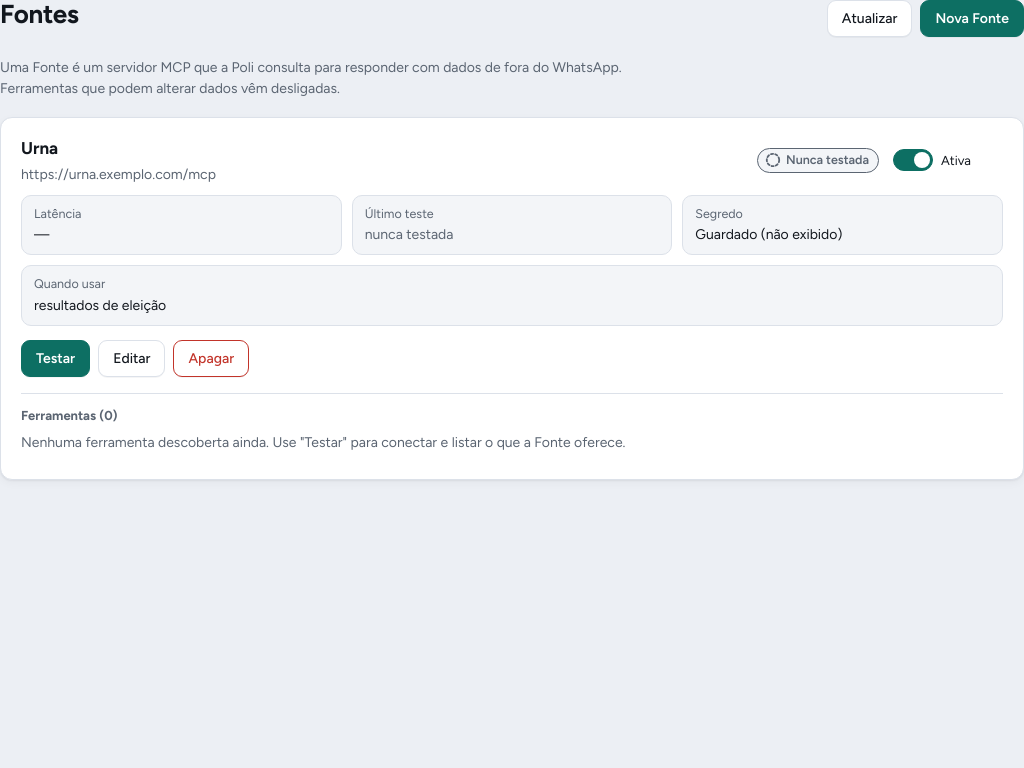
Test: tela de Fontes › ao editar, o segredo vem vazio e "Remover segredo" envia segredo vazio
The image size is (1024, 768).
Click the button "Editar". click: (132, 358)
box: [98,340,166,377]
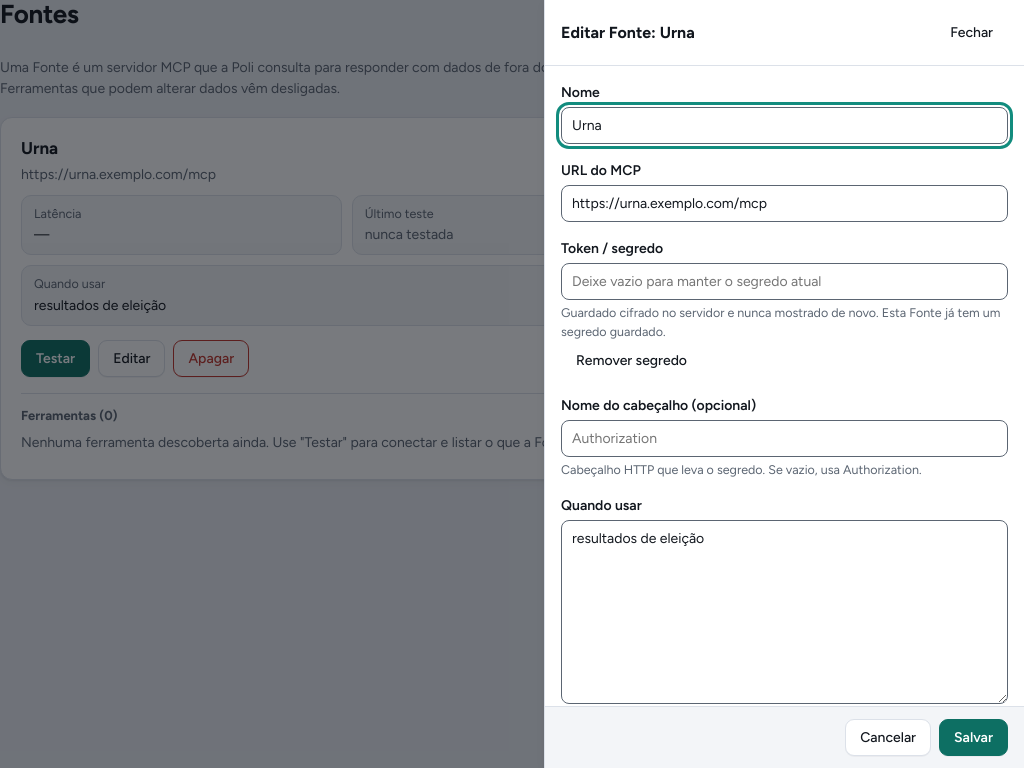
Check: the password field labelled "Token / segredo" is empty, box [561,263,1008,300]
Click the button "Remover segredo". click: (632, 360)
box: [561,342,702,378]
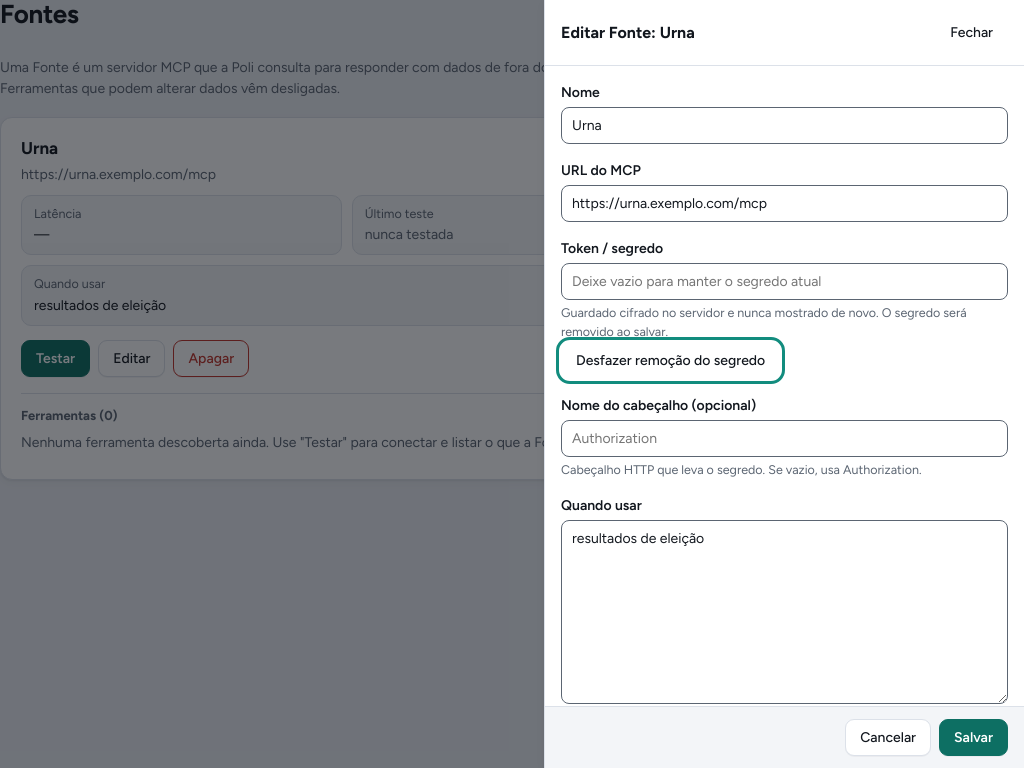
Click the button "Salvar". click: (974, 738)
box: [939,719,1008,756]
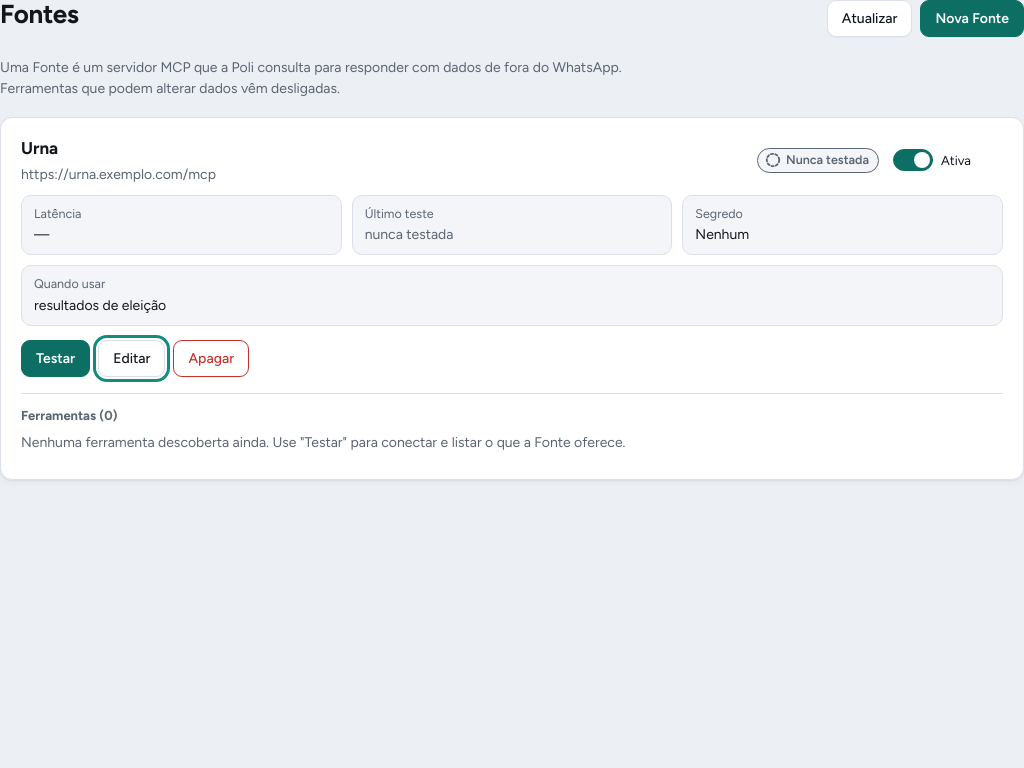
Check: the dialog is gone
